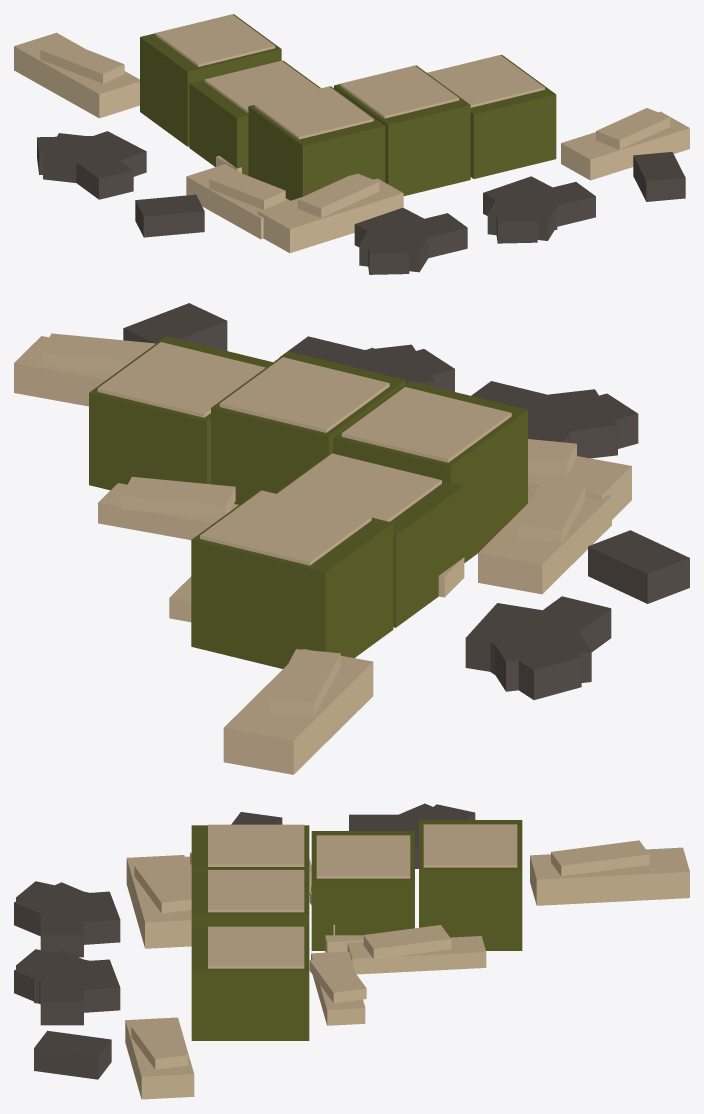
The model's file is SM_HescoEsquina_v1_Geotextil_e2_MuyDanado_LOD1.fbx.
3 renders of one model, top to bottom at view 1: azimuth 30°, elevation 25°; view 2: azimuth 150°, elevation 25°; view 3: azimuth 270°, elevation 25°, orthographic. The views are drawn at different scales.
Parts seen in each view (by area): view 1: SM_hesco_piezas_v6_LOD1; view 2: SM_hesco_piezas_v6_LOD1; view 3: SM_hesco_piezas_v6_LOD1.
Boxes of the visible parts, box(x1,y1,x2,y2) form: SM_hesco_piezas_v6_LOD1: box(14, 14, 689, 274); SM_hesco_piezas_v6_LOD1: box(14, 303, 689, 774); SM_hesco_piezas_v6_LOD1: box(14, 803, 689, 1099).
Bounding box in the file's own units: 6.71 × 0.9603 × 7.01.
